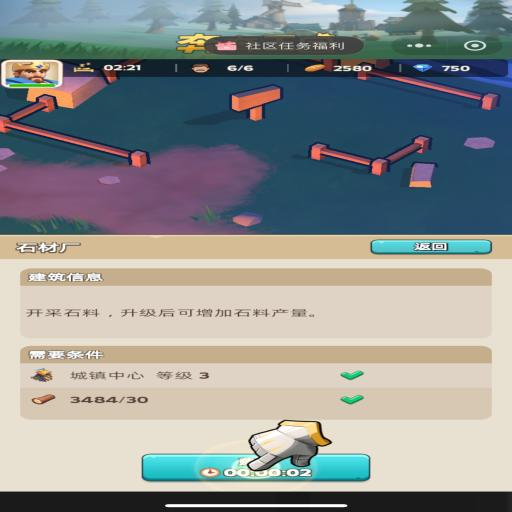newcomer_hand: (244, 419, 330, 469)
